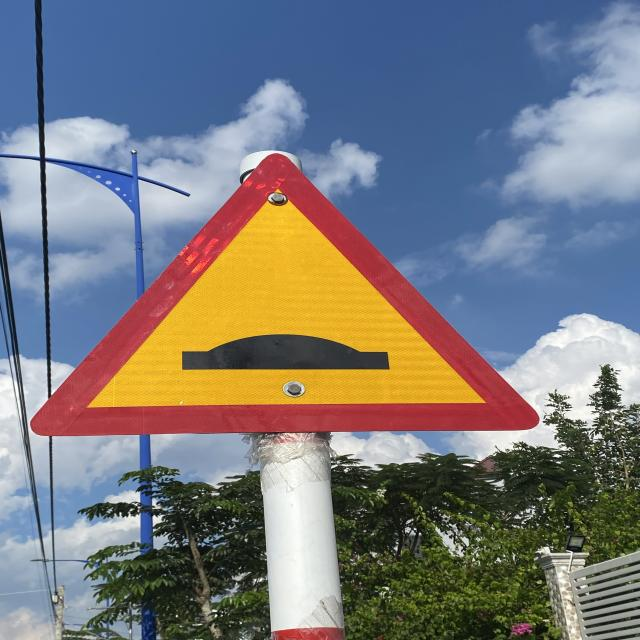Duong_Cong_Ben_Phai: (26, 153, 538, 434)
